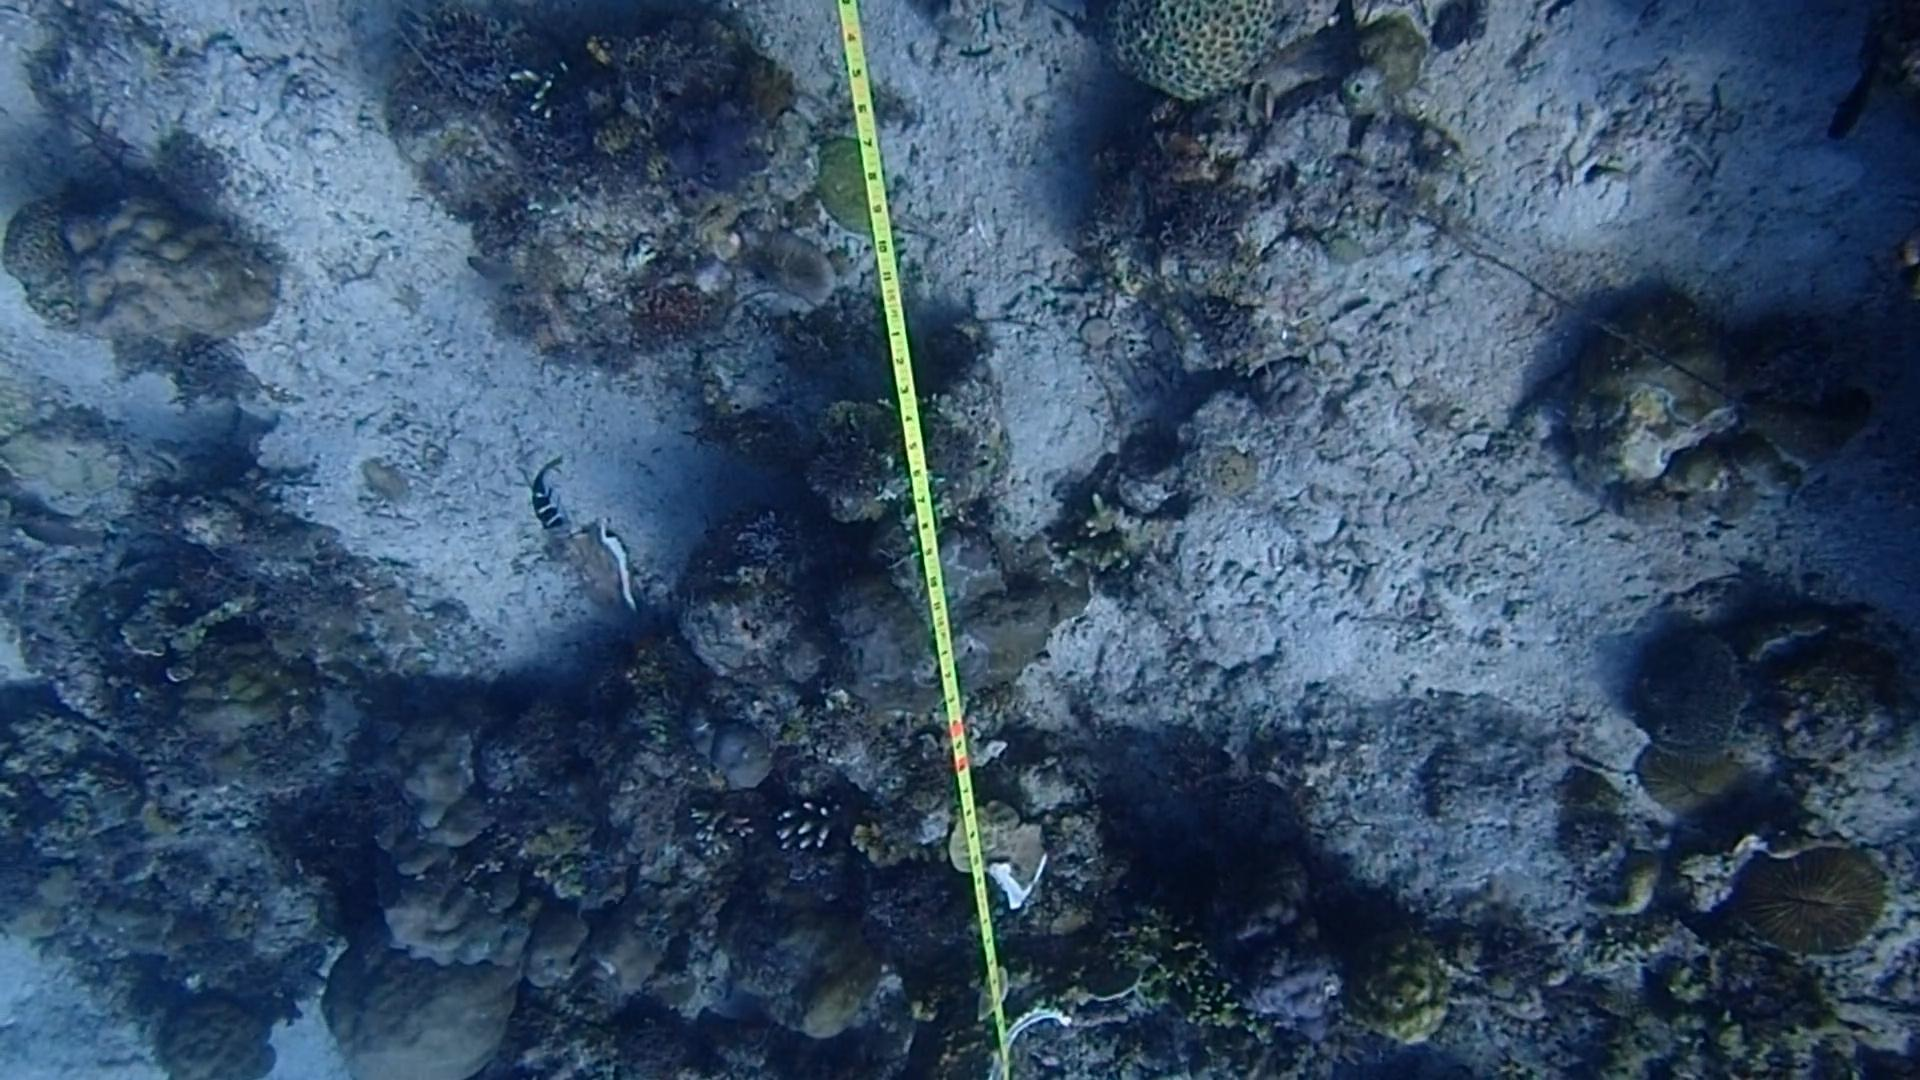Striped Fish: (521, 459, 575, 537)
